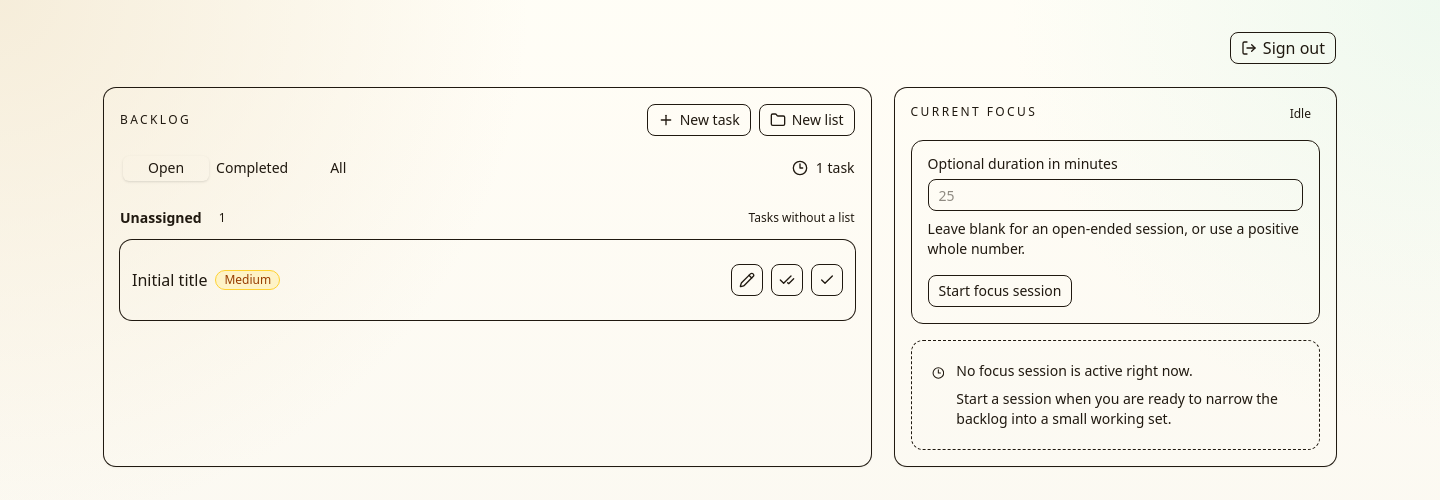
Test: AppShellPage › shows edit validation for blank task titles
The image size is (1440, 500).
Click the button named "edit task". click: coordinates (747, 280)
box: [731,264,763,296]
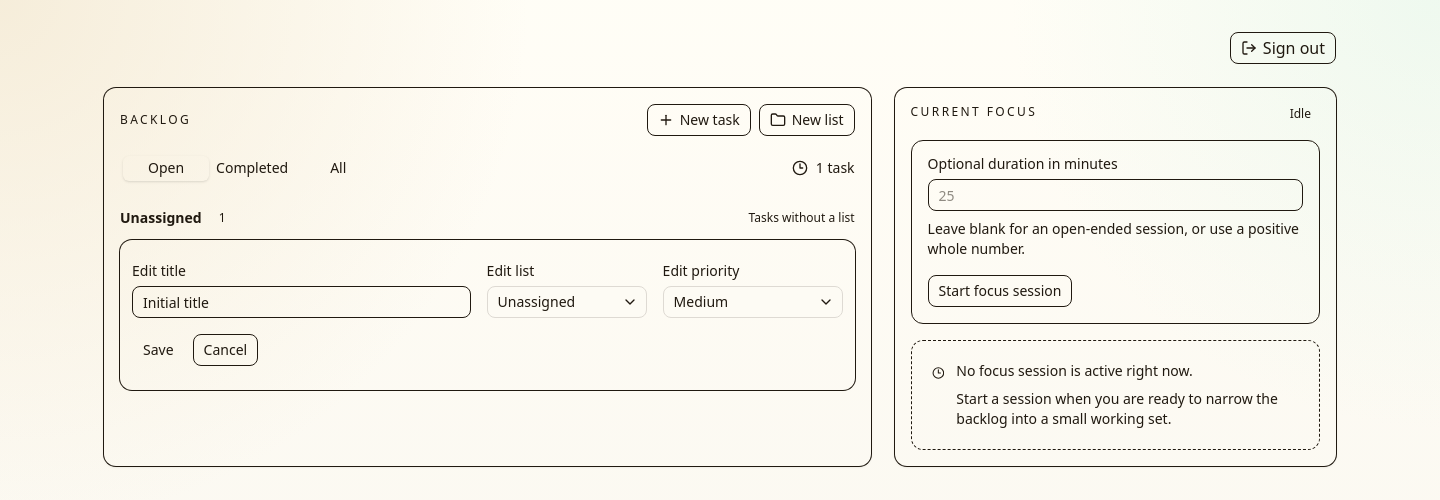
Clear the field labelled "Edit title". click: coordinates (301, 302)
box: [132,286,471,318]
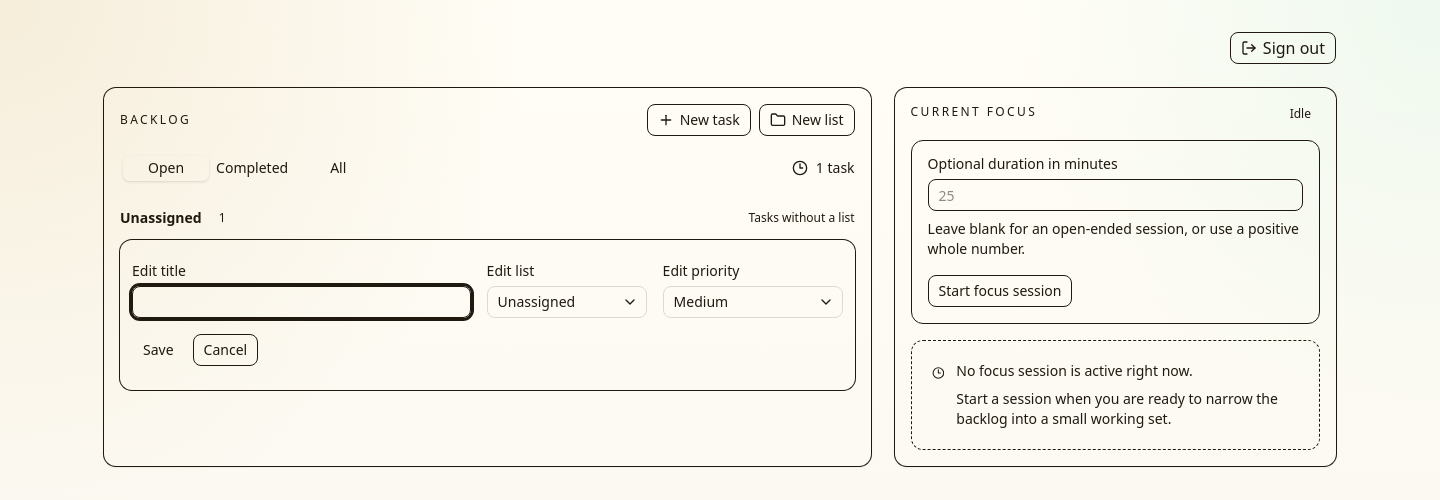
Click the button "Save". click: coordinates (158, 350)
box: [132,334,185,366]
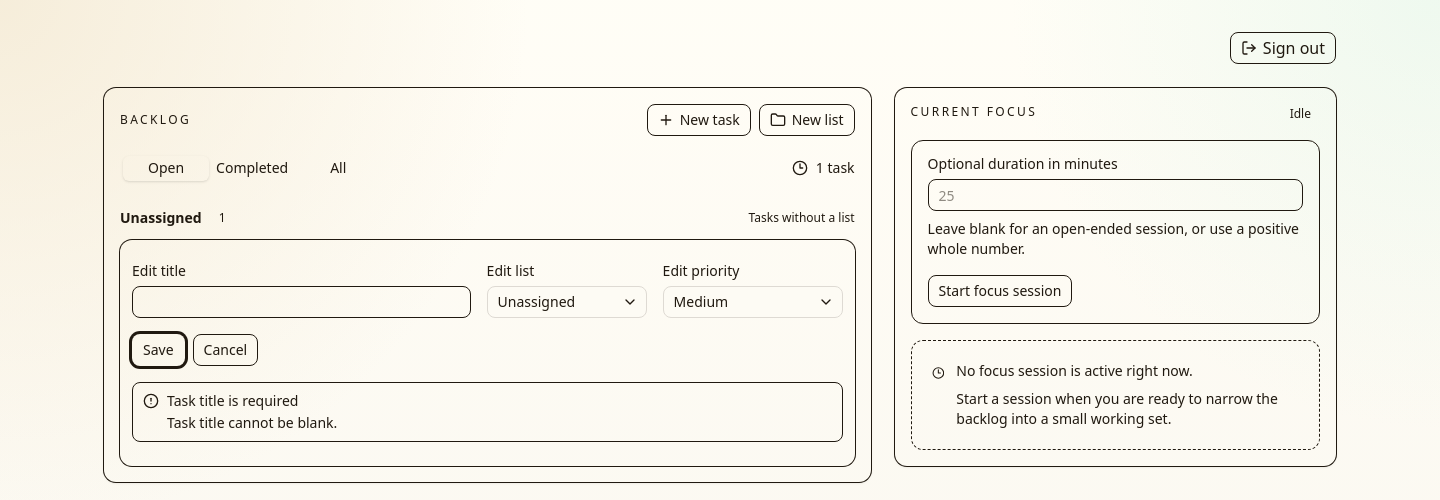
Expected: the text "Task title cannot be blank." is shown, [167,413,337,432]
